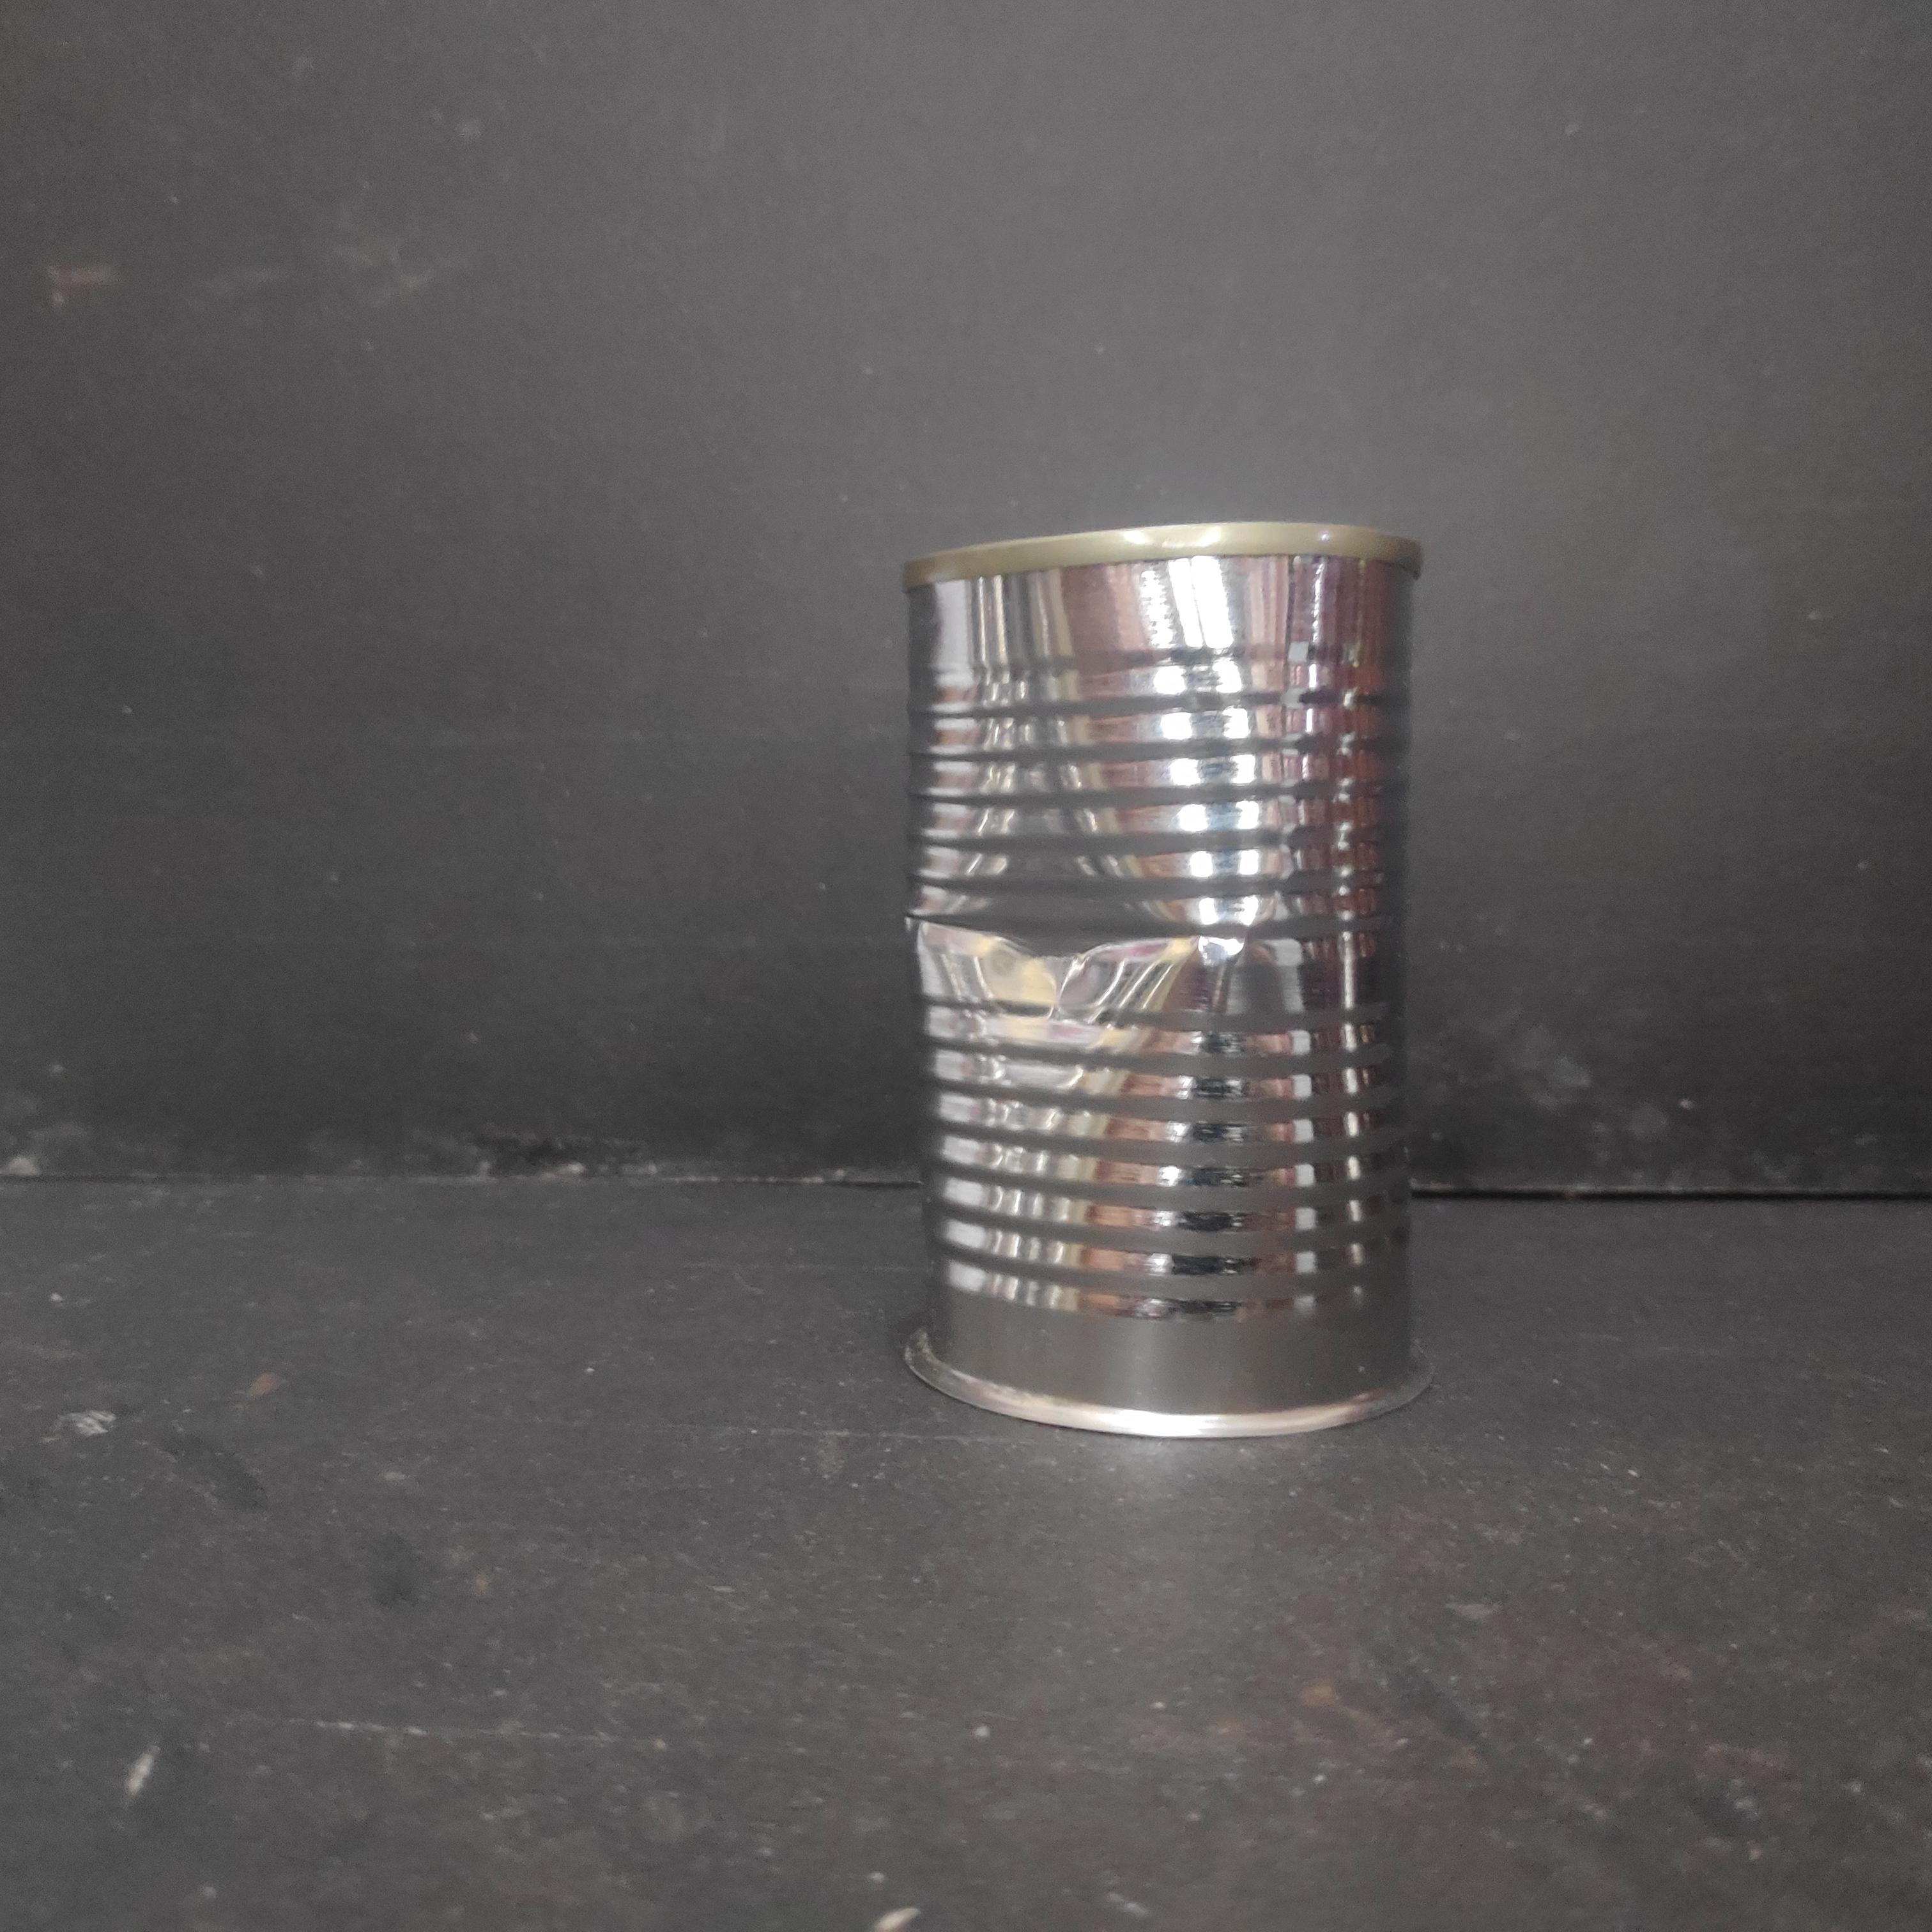Minor Defect: (883, 508, 1437, 1460)
